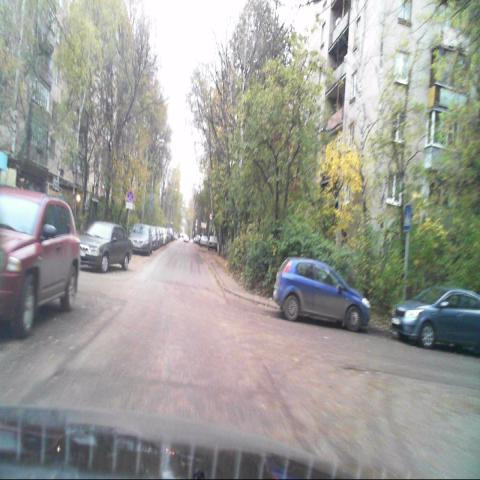3_27: (126, 190, 133, 201)
